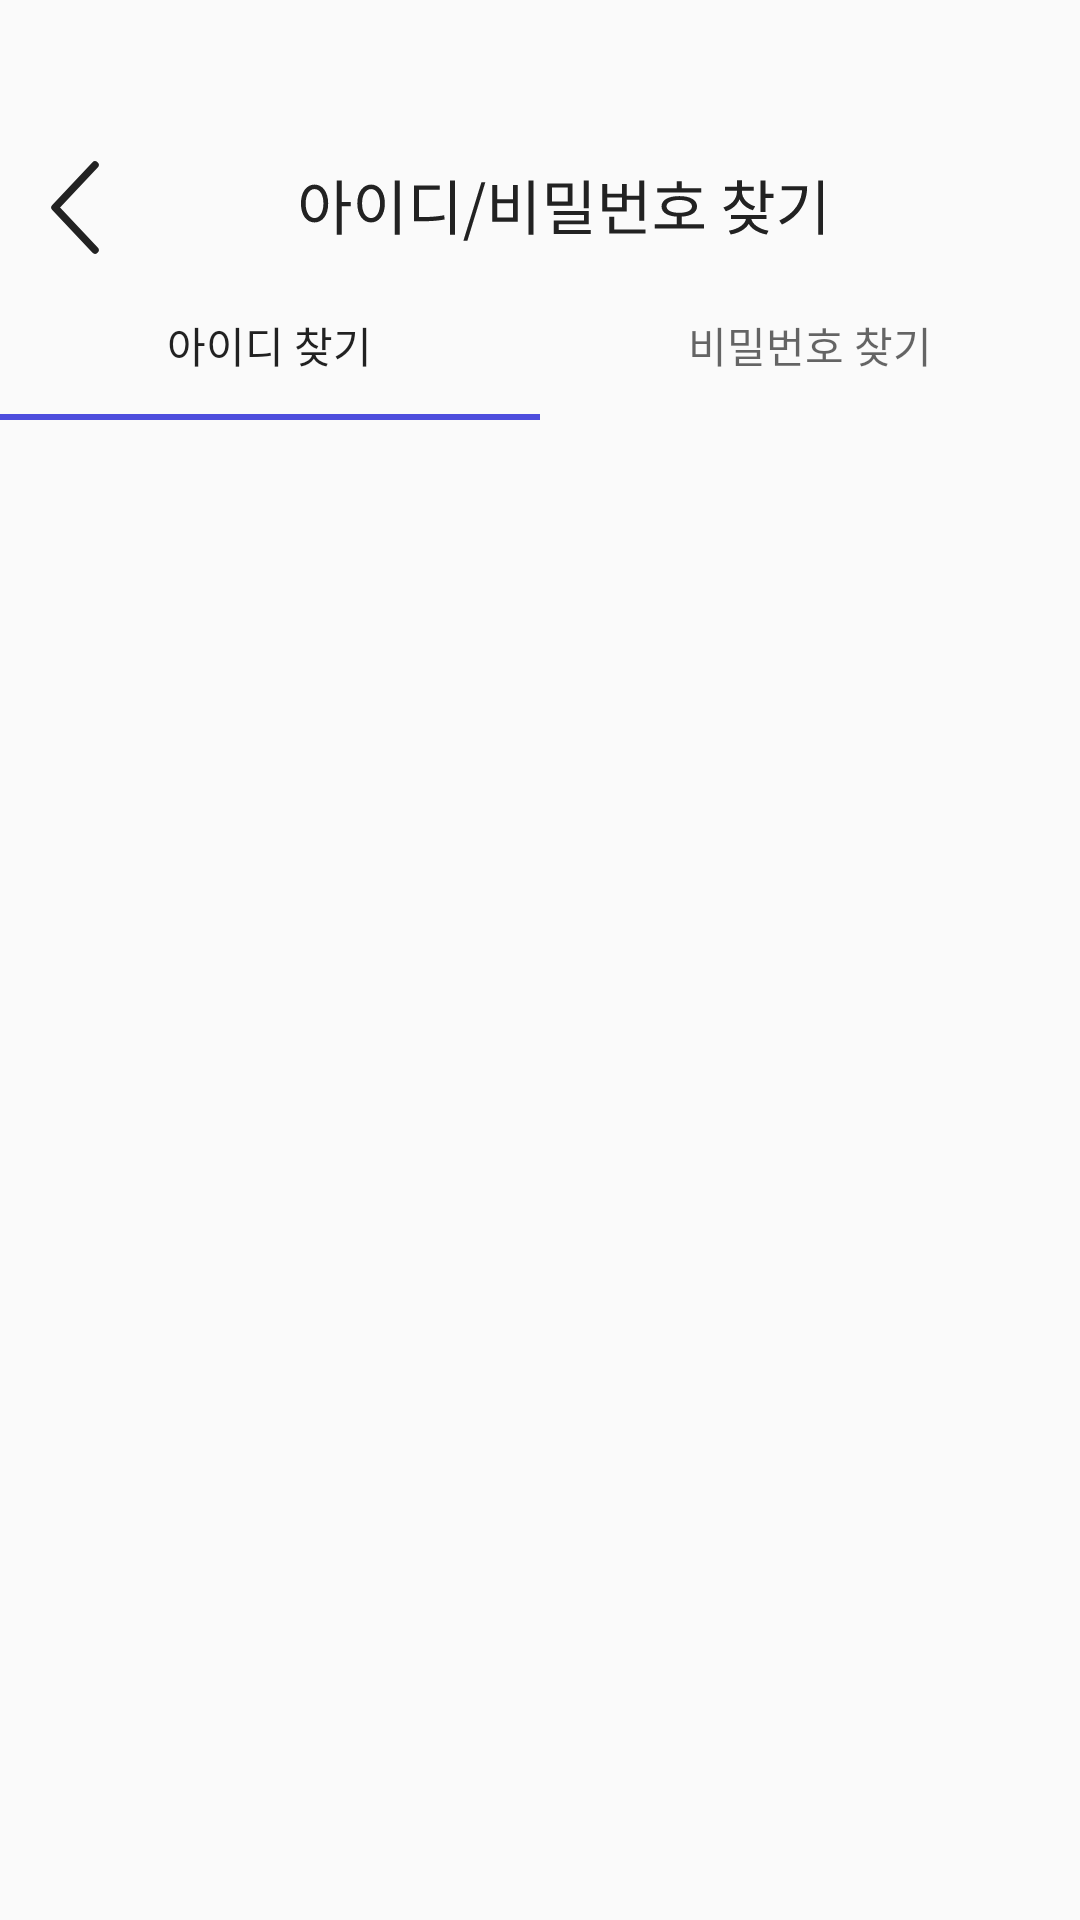

Icons on this 1080 × 1920 Android screen, each with its box as bbox=[x1, y1, x2, y2]:
back: bbox=[51, 161, 99, 254]
